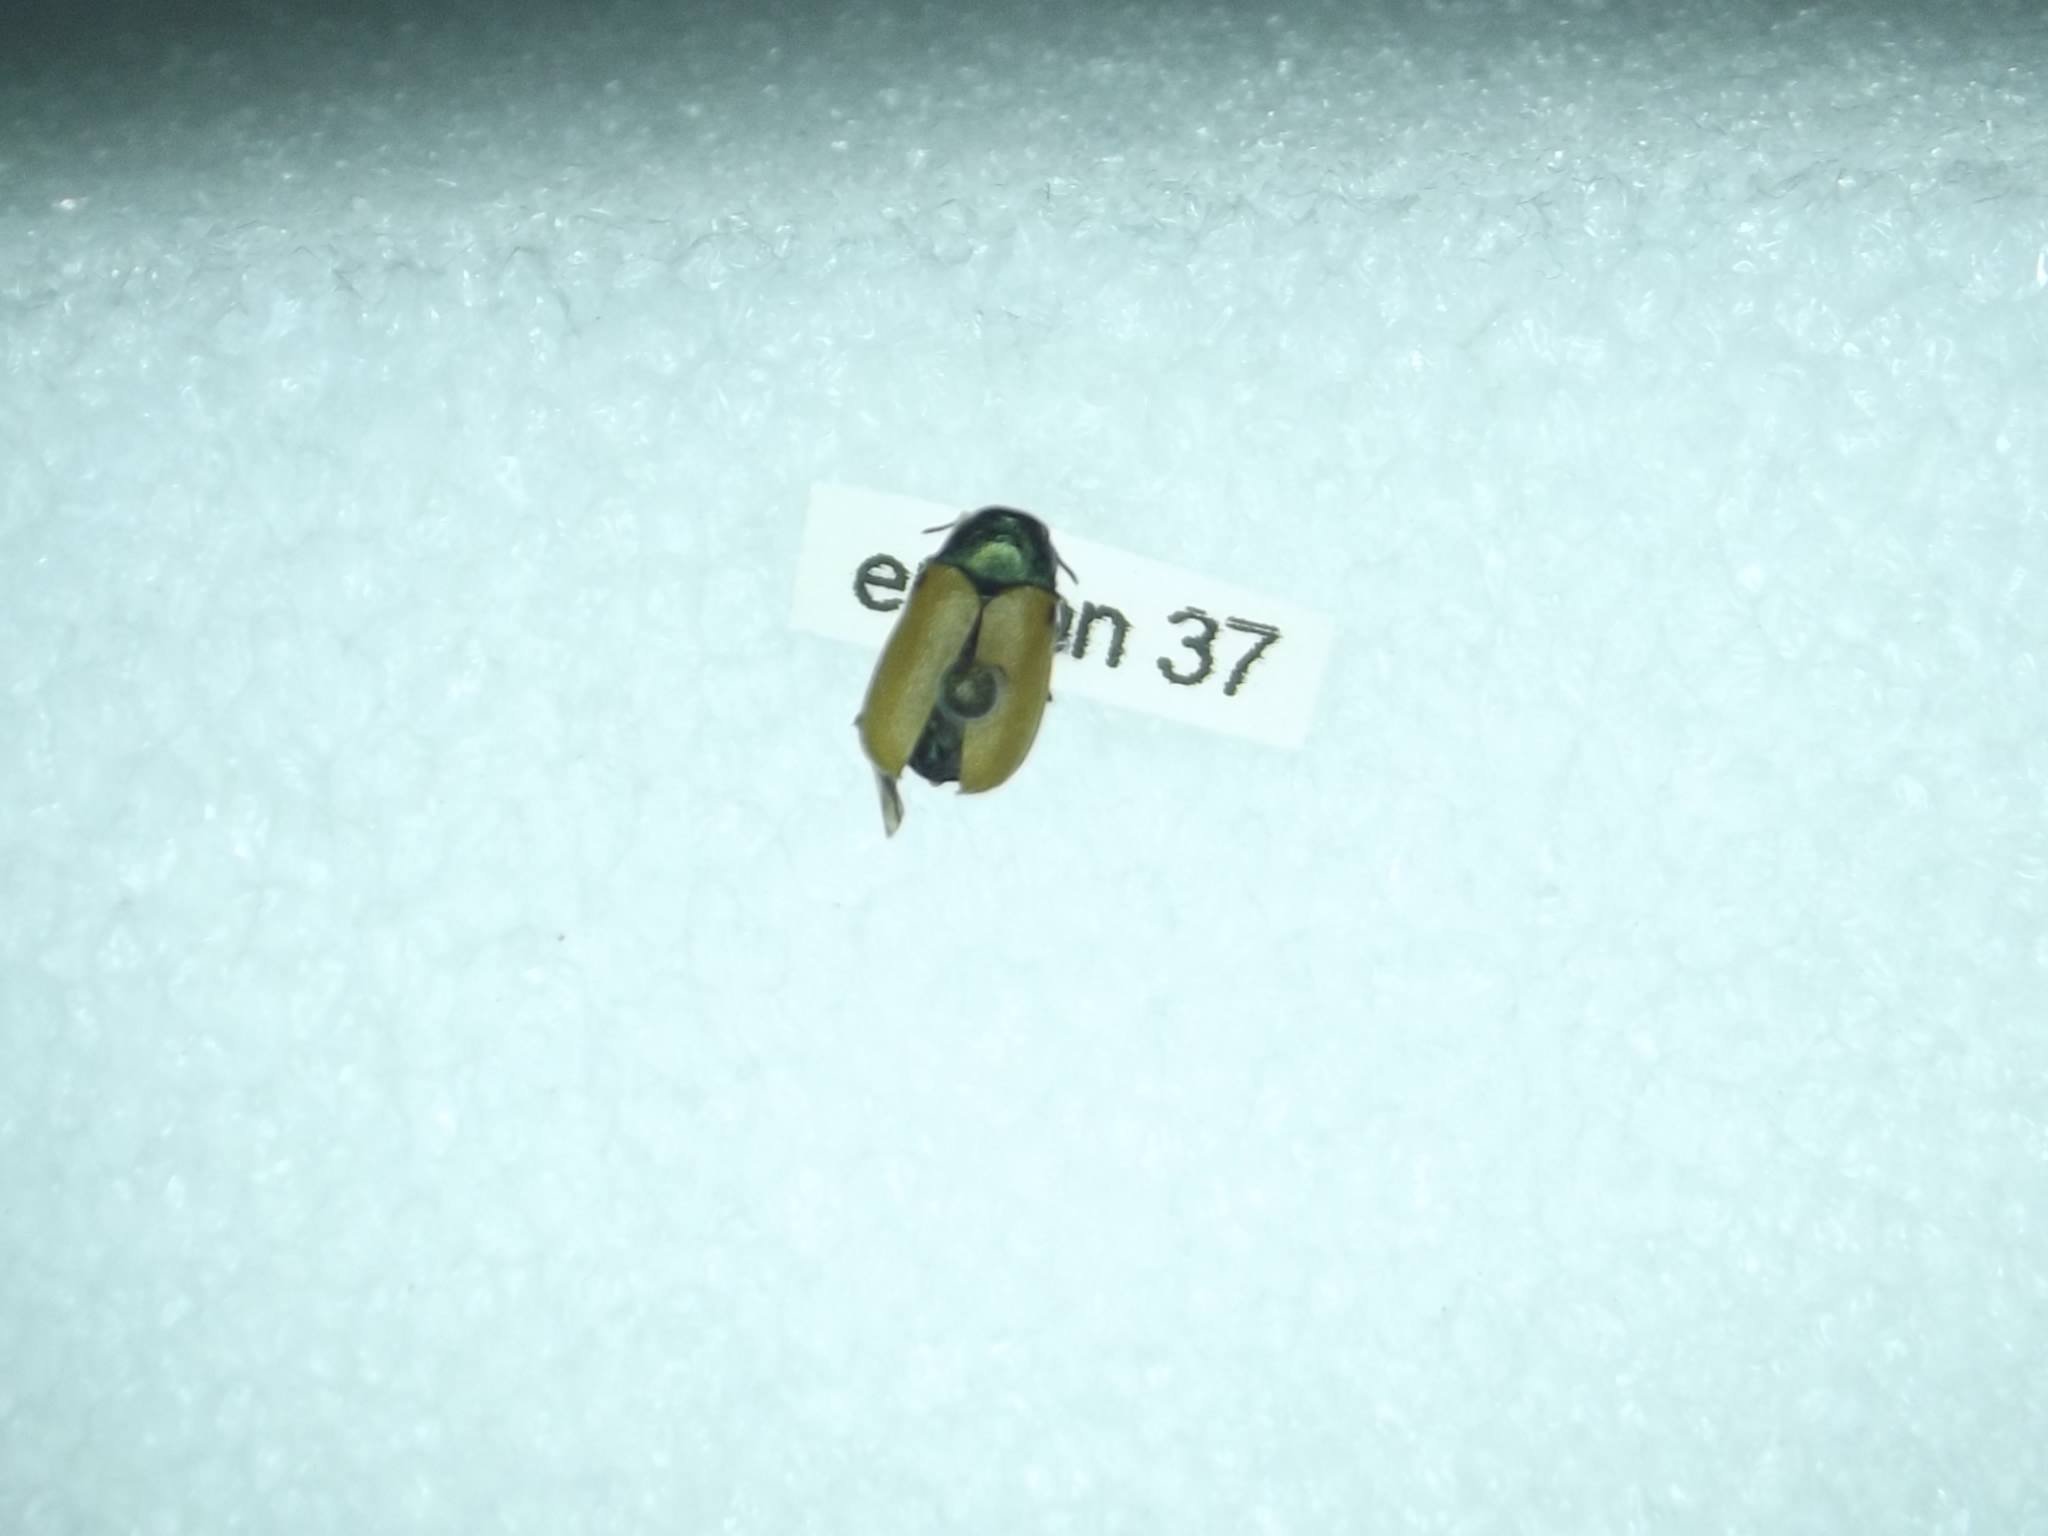Labidostomis_longimana: (851, 481, 1077, 866)
